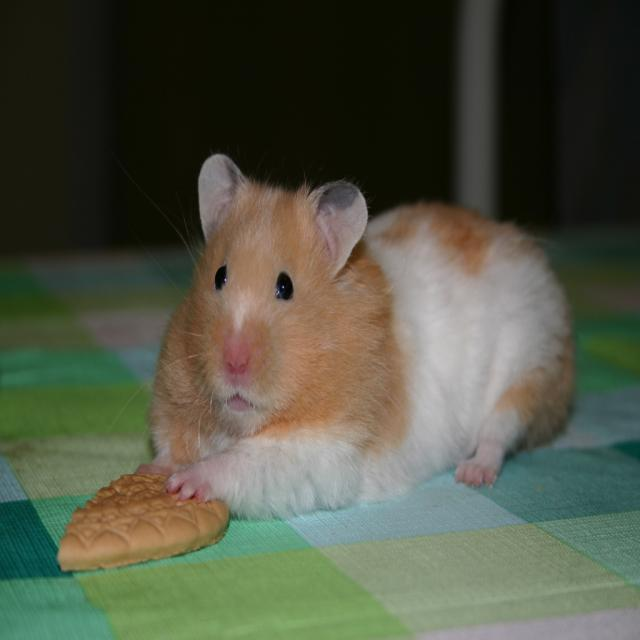rat: (146, 156, 574, 520)
